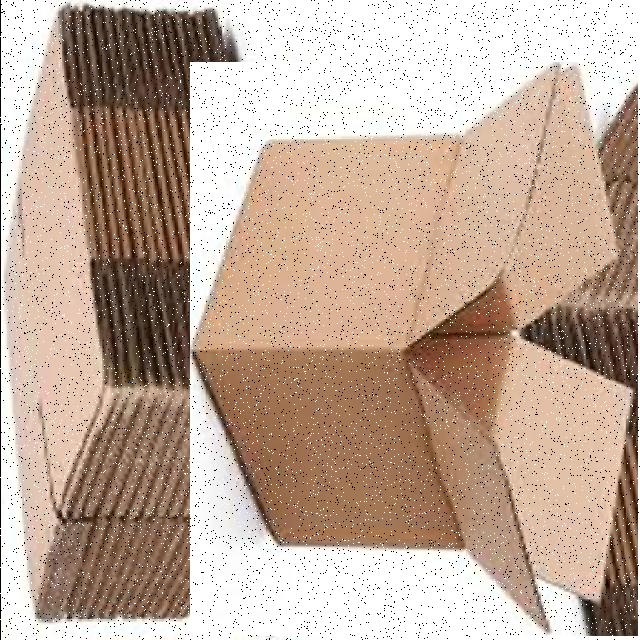defect: (189, 62, 637, 636)
